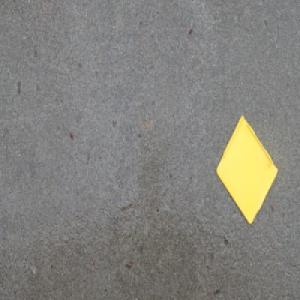PlasticPart: (215, 114, 279, 225)
